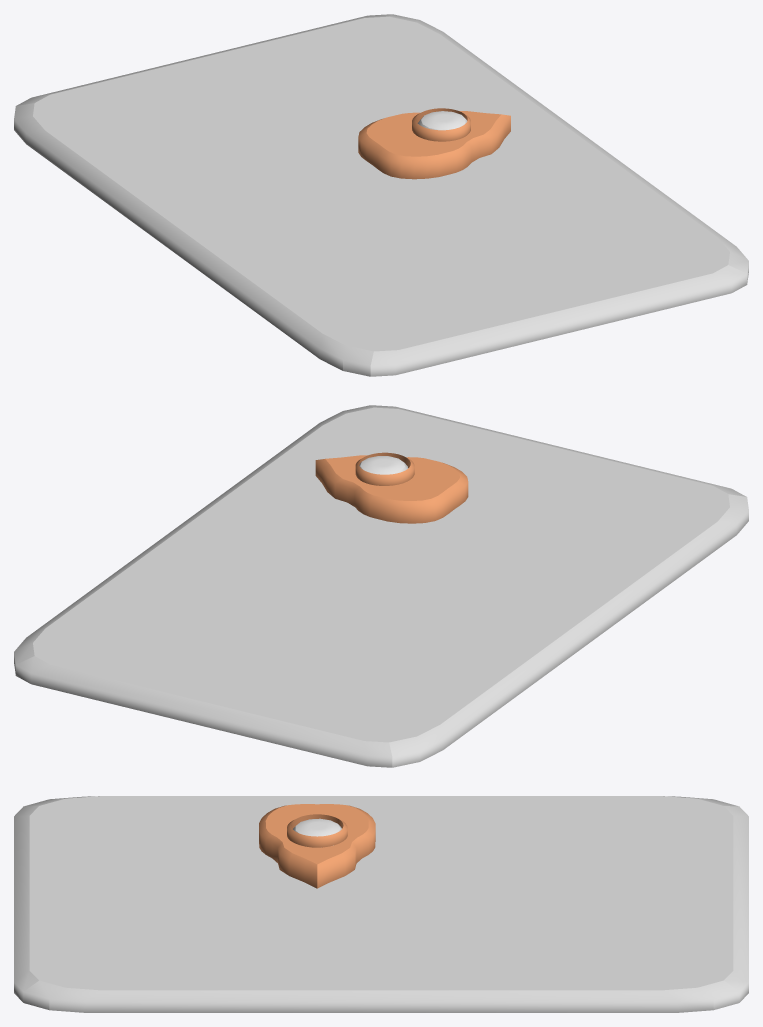
File: Ouija.fbx
3 views of the same model, one above another, from view 1: azimuth 30°, elevation 25°; view 2: azimuth 150°, elevation 25°; view 3: azimuth 270°, elevation 25° (orthographic).
Visible parts, largest first — view 1: Cube, Cylinder, Sphere; view 2: Cube, Cylinder, Sphere; view 3: Cube, Cylinder, Sphere.
Boxes of the visible parts, x1,y1,x2,y2 form: Cube: (14,14,748,376); Cylinder: (358,108,510,179); Sphere: (417,111,467,130); Cube: (14,405,748,767); Cylinder: (315,452,468,523); Sphere: (359,456,408,474); Cube: (14,796,748,1012); Cylinder: (259,804,375,888); Sphere: (293,818,341,845).
Size of the model in its own units: 1013 by 229 by 1534.
